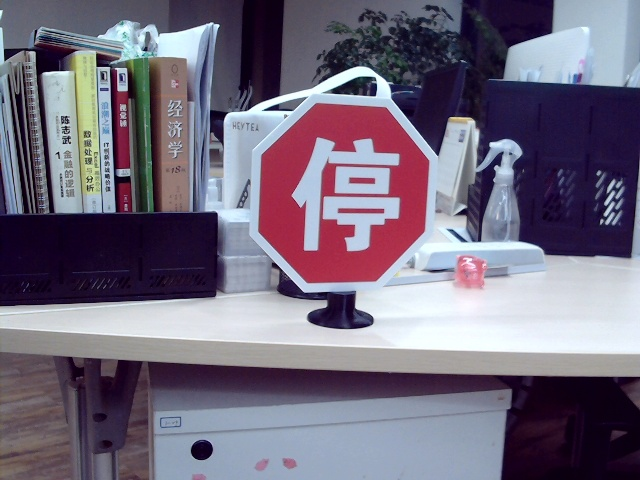stop: (292, 134, 402, 253)
